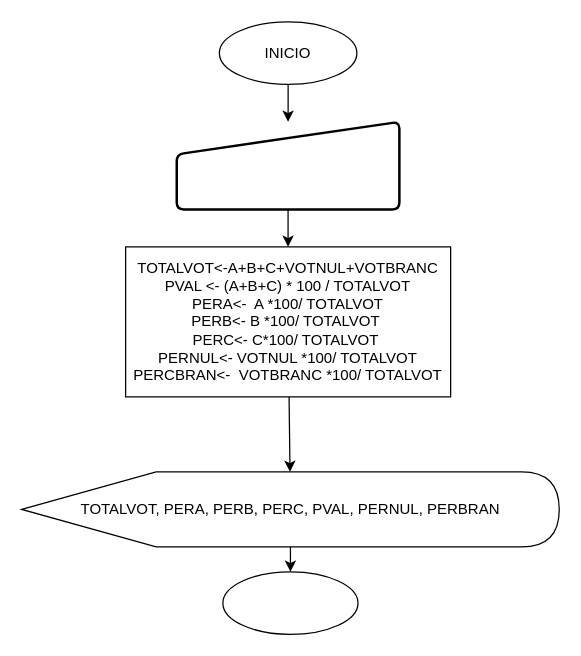
The diagram is 581 pixels wide and 656 high, and some of its shapes have lost their labels. Here are the shapes that lost their labels. From the top down, the centre of each, then its label:
At pixel 287 165: "A,B,C,D,VOTNUL, VOTBRANC".
At pixel 290 602: "FIM".
